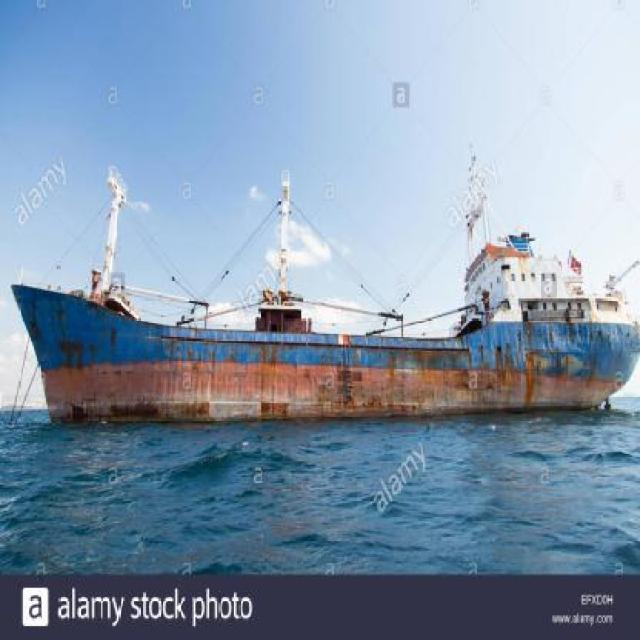corrosion: (11, 255, 640, 423)
